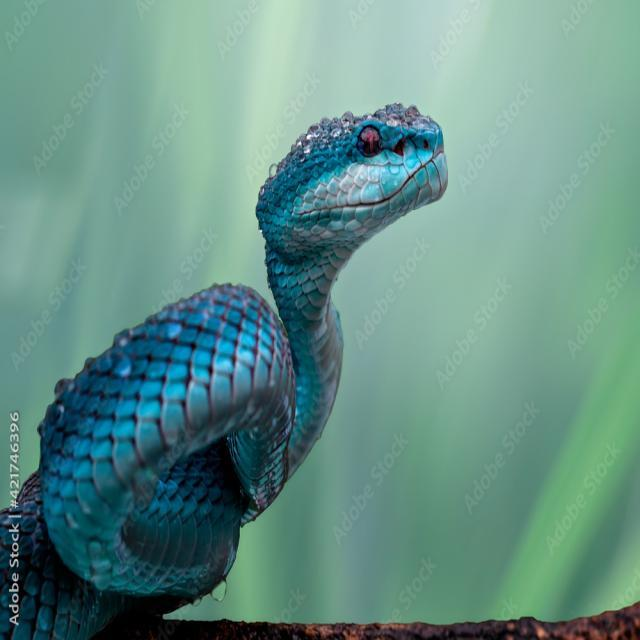Snake: (22, 83, 458, 633)
